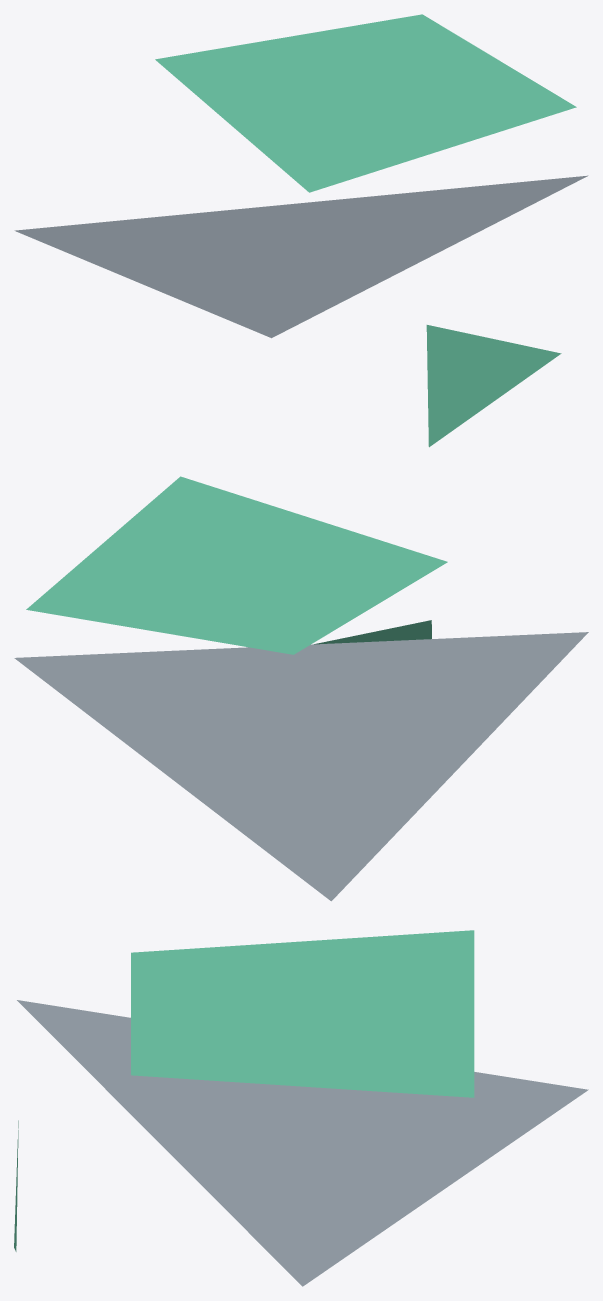
File: CO_WarFactory_LOD2.glb
3 renders of one model, top to bottom at view 1: azimuth 30°, elevation 25°; view 2: azimuth 150°, elevation 25°; view 3: azimuth 270°, elevation 25°, orthographic. The views are drawn at different scales.
Visible parts, largest first — view 1: EntranceGate; view 2: EntranceGate; view 3: EntranceGate.
Part boxes in pixels (x1=…): EntranceGate: x1=14, y1=14, x2=588, y2=447; EntranceGate: x1=14, y1=476, x2=588, y2=901; EntranceGate: x1=14, y1=930, x2=588, y2=1286.
Size of the model in its own units: 800 by 433 by 803.
